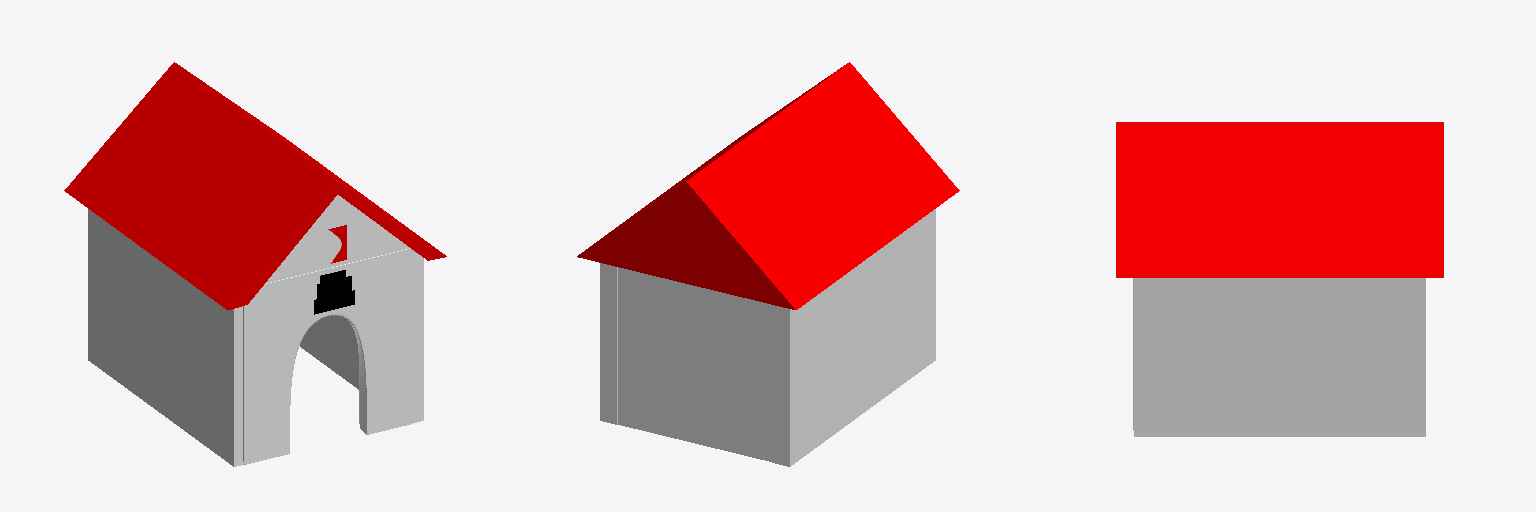
3 views of the same model, side by side, from view 1: azimuth 30°, elevation 25°; view 2: azimuth 150°, elevation 25°; view 3: azimuth 270°, elevation 25° (orthographic).
Parts seen in each view (by area): view 1: Cube.004_Cube.005, Cube.002_Cube.003, Cube.003_Cube.004, Cube.001, name; view 2: Cube.004_Cube.005, Cube.002_Cube.003, Cube, Cube.001; view 3: Cube.004_Cube.005, Cube.001.
Part boxes in pixels (x1,y1,x2,y2): Cube.004_Cube.005: (64,62,446,309); Cube.002_Cube.003: (88,209,243,466); Cube.003_Cube.004: (243,248,411,464); Cube.001: (300,252,423,423); name: (314,270,354,314); Cube.004_Cube.005: (577,62,959,309); Cube.002_Cube.003: (772,209,935,466); Cube: (618,267,771,461); Cube.001: (600,263,617,424); Cube.004_Cube.005: (1116,122,1443,277); Cube.001: (1134,278,1425,436).
Size of the model in its own units: 2.62 by 3.06 by 3.37.
6 materials, 2 textured.